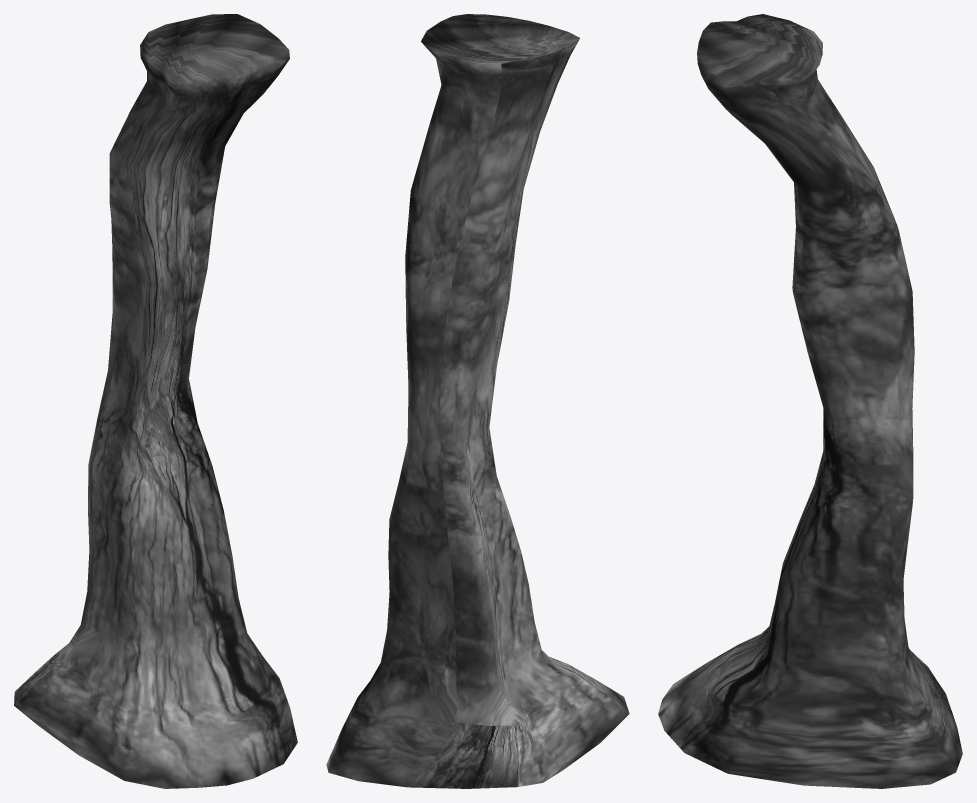
The model's file is rockformation3.obj.
The picture shows the model from 3 angles, left to right: view 1: azimuth 30°, elevation 25°; view 2: azimuth 150°, elevation 25°; view 3: azimuth 270°, elevation 25°; orthographic projection. The views are drawn at different scales.
Visible parts, largest first — view 1: rockformation3; view 2: rockformation3; view 3: rockformation3.
Boxes of the visible parts, x1=… form: rockformation3: x1=14, y1=14, x2=297, y2=788; rockformation3: x1=326, y1=14, x2=629, y2=788; rockformation3: x1=658, y1=14, x2=962, y2=788.
Bounding box in the file's own units: 102 × 328 × 130.
Materials: 1 (1 with a texture image).
